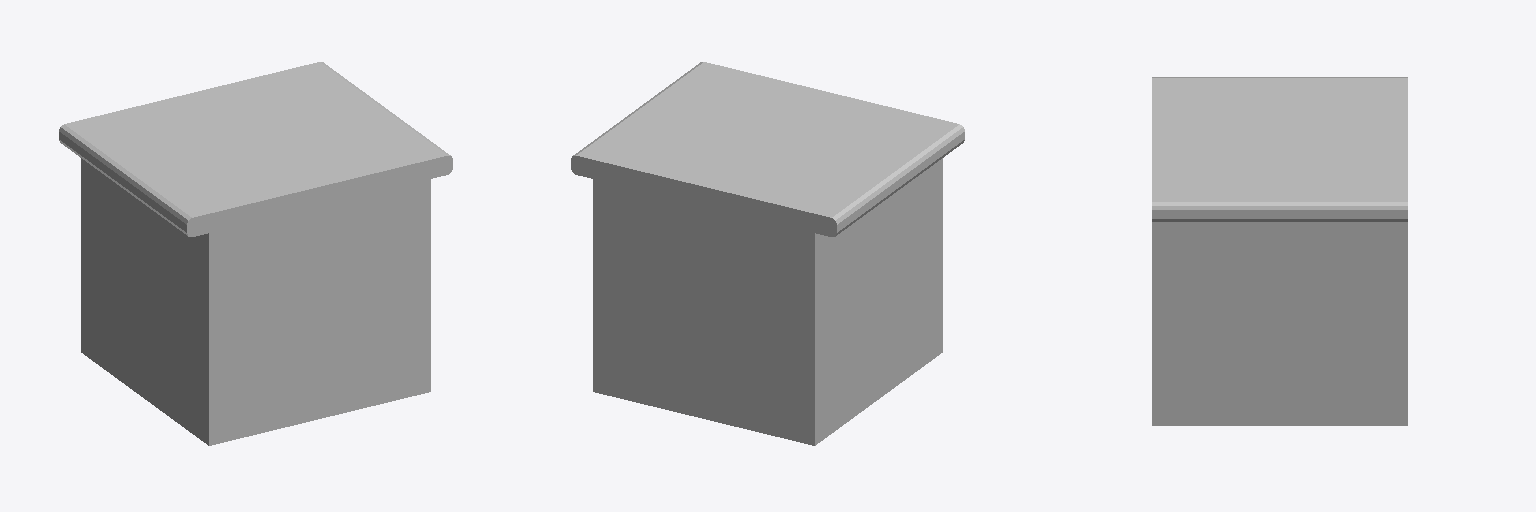
The model's file is table_checkout.obj.
3 renders of one model, left to right at view 1: azimuth 30°, elevation 25°; view 2: azimuth 150°, elevation 25°; view 3: azimuth 270°, elevation 25°, orthographic.
Parts seen in each view (by area): view 1: checkout_table_middle_Cube.005; view 2: checkout_table_middle_Cube.005; view 3: checkout_table_middle_Cube.005.
Boxes of the visible parts, x1,y1,x2,y2 form: checkout_table_middle_Cube.005: [59, 62, 452, 445]; checkout_table_middle_Cube.005: [571, 62, 964, 445]; checkout_table_middle_Cube.005: [1152, 77, 1407, 425].
Bounding box in the file's own units: 2.4 × 2 × 2.